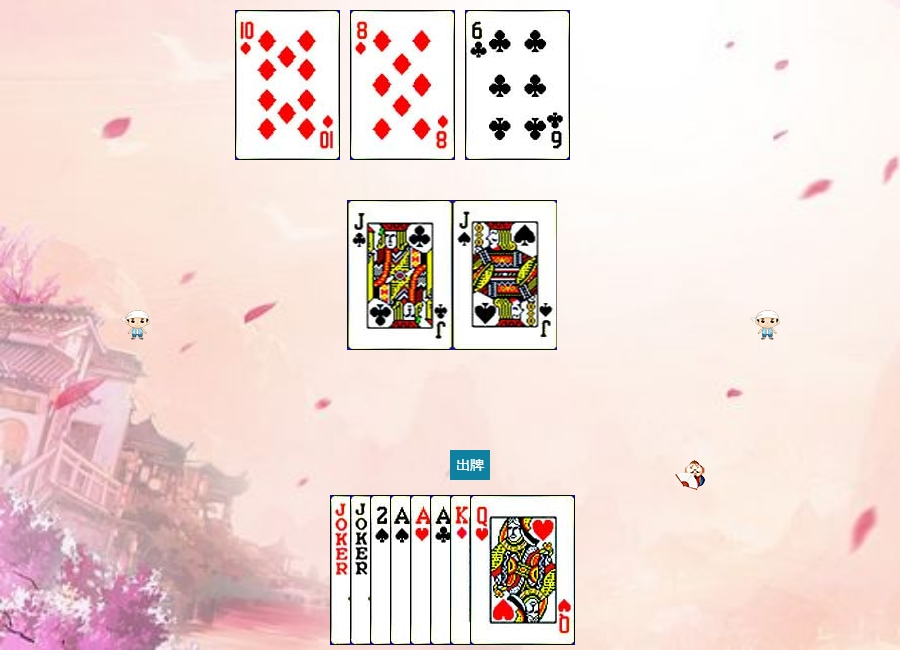10~1: (235, 10, 340, 160)
11~2: (348, 200, 453, 350)
11~4: (453, 200, 558, 350)
12~3: (470, 495, 575, 645)
13~1: (450, 495, 555, 645)
14~2: (430, 495, 535, 645)
14~3: (410, 495, 515, 645)
14~4: (390, 495, 495, 645)
15~4: (370, 495, 475, 645)
17~3: (350, 495, 455, 645)
18~4: (330, 495, 435, 645)
6~2: (465, 10, 570, 160)
8~1: (350, 10, 455, 160)
